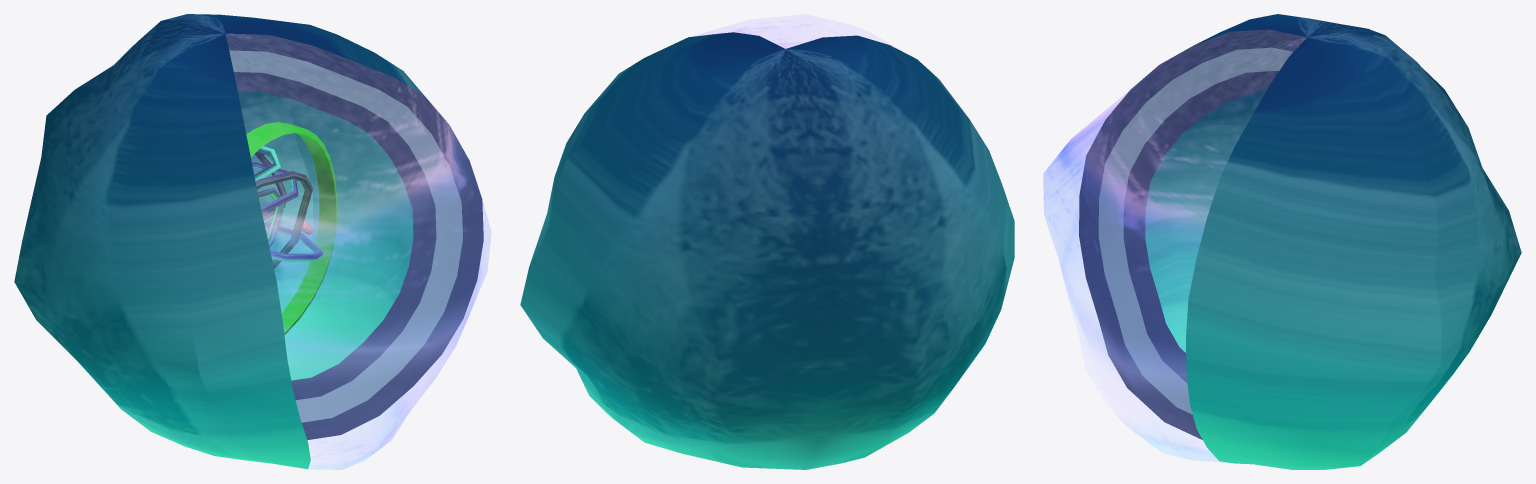
File: NASA-Fase02.gltf
3 renders of one model, left to right at view 1: azimuth 30°, elevation 25°; view 2: azimuth 150°, elevation 25°; view 3: azimuth 270°, elevation 25°, orthographic. The views are drawn at different scales.
Visible parts, largest first — view 1: Sphere.003, Sphere.018, Sphere.002, BezierCurve.002; view 2: Sphere.003, Sphere.018; view 3: Sphere.003, Sphere.018.
Boxes of the visible parts, x1,y1,x2,y2 form: Sphere.003: (14,14,483,469); Sphere.018: (226,34,491,469); Sphere.002: (246,122,337,335); BezierCurve.002: (252,146,322,268); Sphere.003: (520,32,1014,469); Sphere.018: (691,14,908,54); Sphere.003: (1079,14,1521,469); Sphere.018: (1043,30,1306,462).
Size of the model in its own units: 37.2 by 37.16 by 40.79.
Materials: 7 (3 with a texture image).
